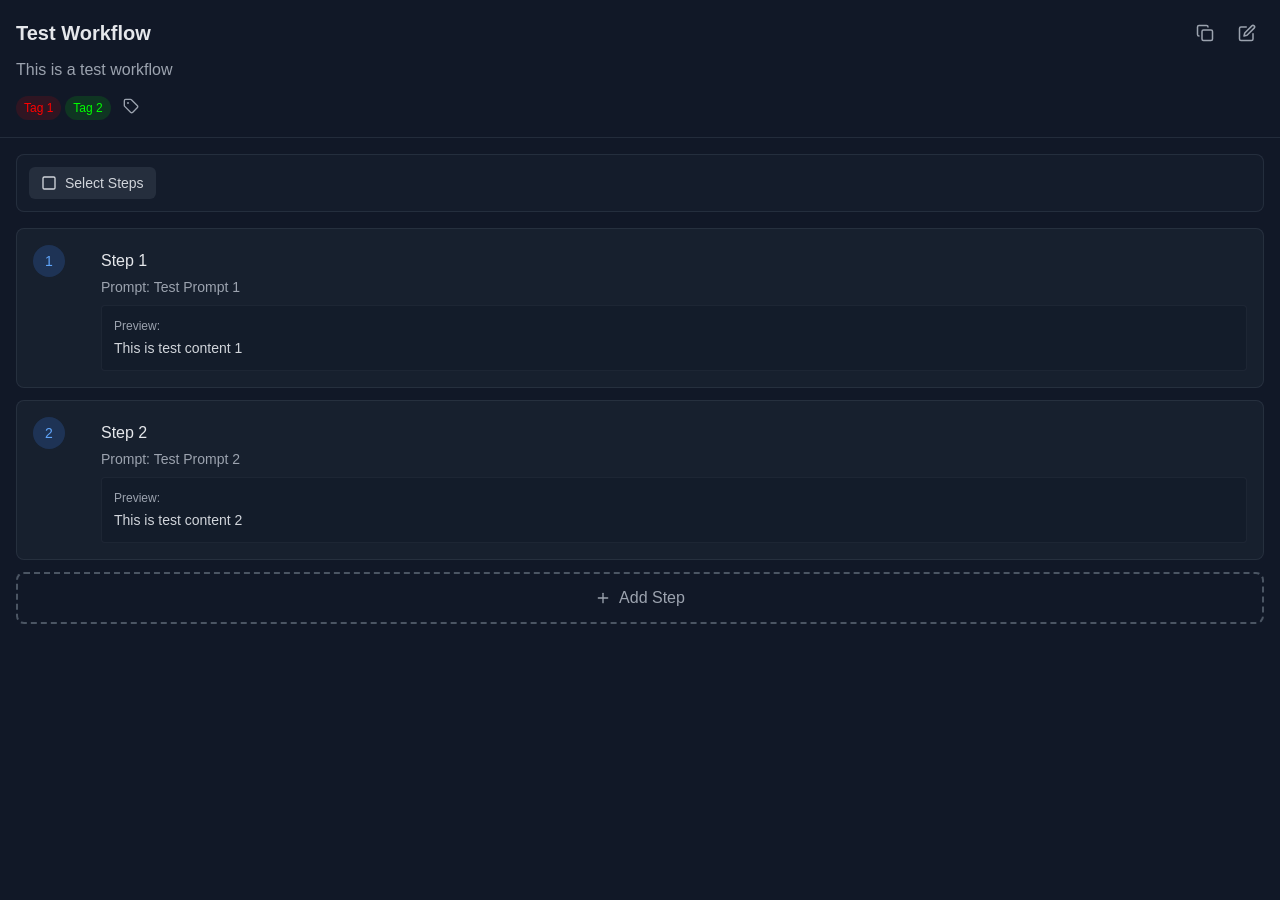
Test case: WorkflowEditor › Tag Management › should show tag selector when tag button is clicked
# Click tag management button
Click the button titled "Manage tags" at (131, 106), box left=119, top=94, right=143, bottom=118
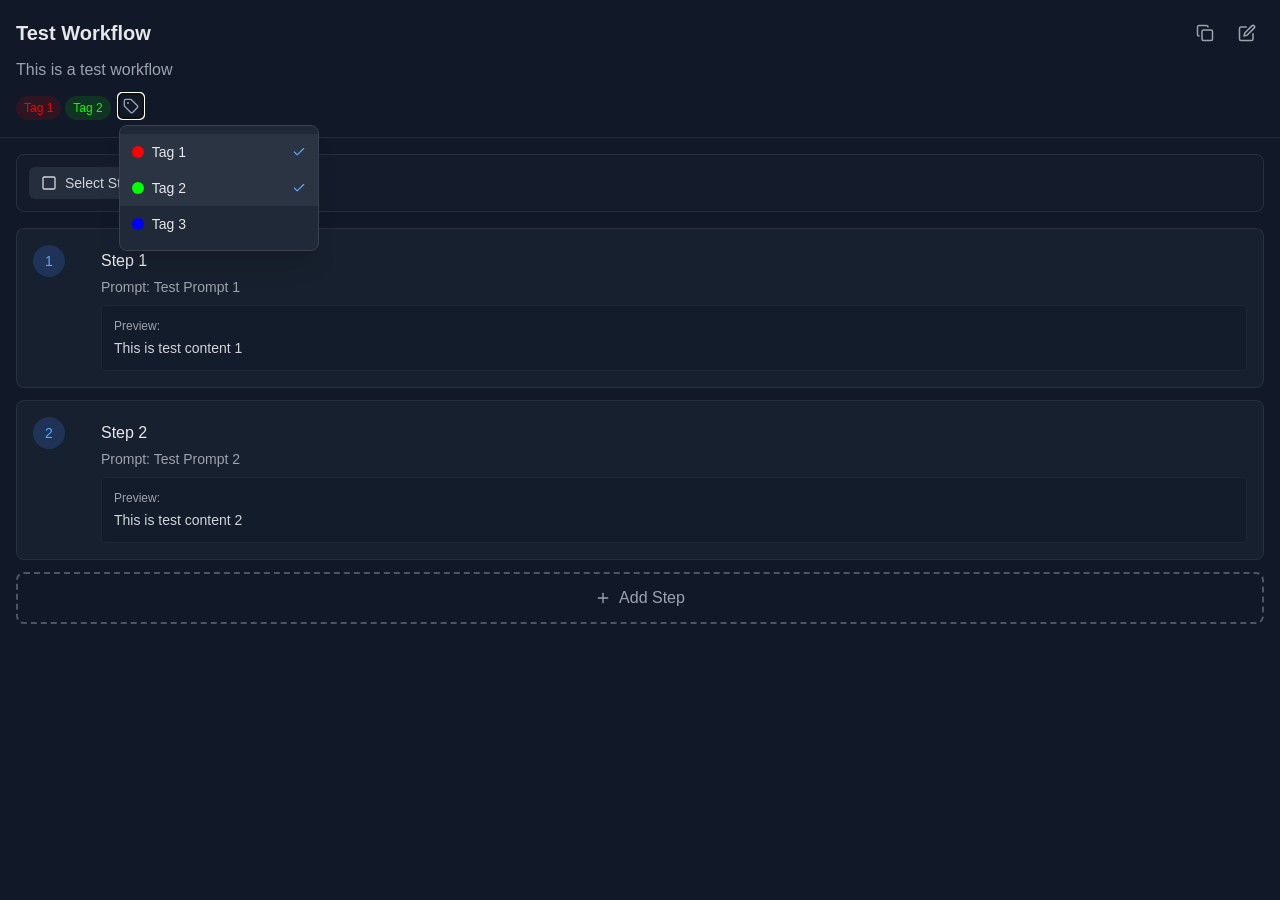
Check: the text "Tag 3" is shown, box left=152, top=214, right=186, bottom=234
